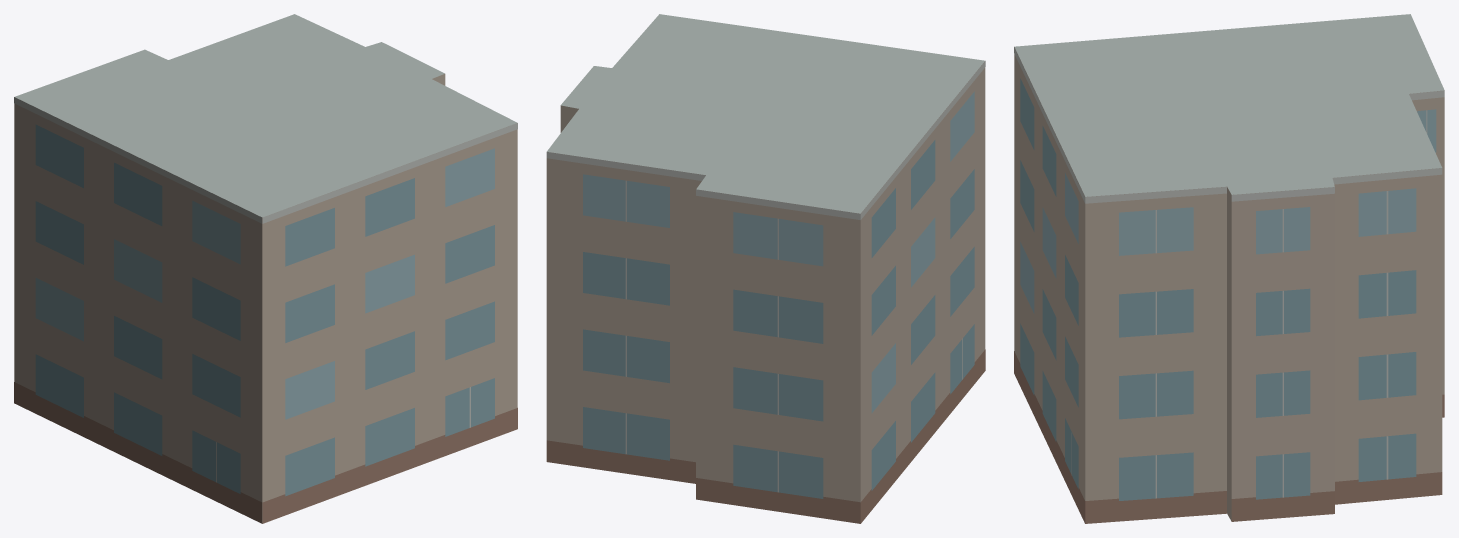
File: survey-upis-32894576.glb
3 views of the same model, side by side, from view 1: azimuth 30°, elevation 25°; view 2: azimuth 150°, elevation 25°; view 3: azimuth 270°, elevation 25° (orthographic). The views are drawn at different scales.
Visible parts, largest first — view 1: survey-upis-32894576.tmp; view 2: survey-upis-32894576.tmp; view 3: survey-upis-32894576.tmp.
Boxes of the visible parts, <box> form: survey-upis-32894576.tmp: <box>14,14,517,523</box>; survey-upis-32894576.tmp: <box>546,14,985,523</box>; survey-upis-32894576.tmp: <box>1014,14,1444,523</box>.
Size of the model in its own units: 14.04 by 11.7 by 13.97.
